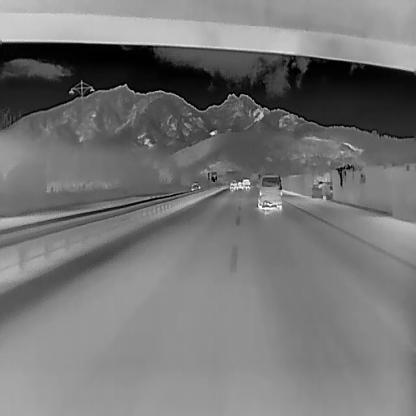car: (256, 173, 282, 211), (189, 180, 201, 191), (228, 178, 238, 190), (241, 178, 250, 189), (237, 181, 242, 189)
